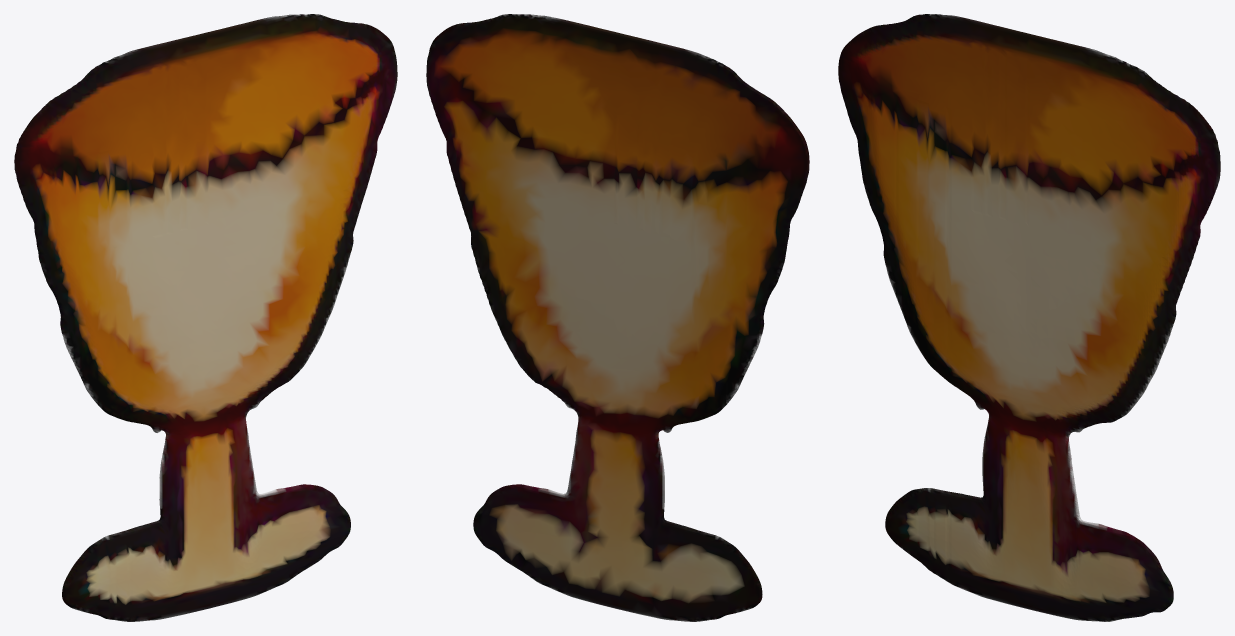
Rendered from chalice_cop.glb.
3 renders of one model, left to right at view 1: azimuth 30°, elevation 25°; view 2: azimuth 150°, elevation 25°; view 3: azimuth 330°, elevation 25°, orthographic.
Visible parts, largest first — view 1: geometry_0; view 2: geometry_0; view 3: geometry_0.
Boxes of the visible parts, left/top/right/bottom form: geometry_0: left=14, top=14, right=397, bottom=621; geometry_0: left=426, top=14, right=809, bottom=621; geometry_0: left=838, top=14, right=1220, bottom=621.
Size of the model in its own units: 0.4992 by 0.7188 by 0.0104.
